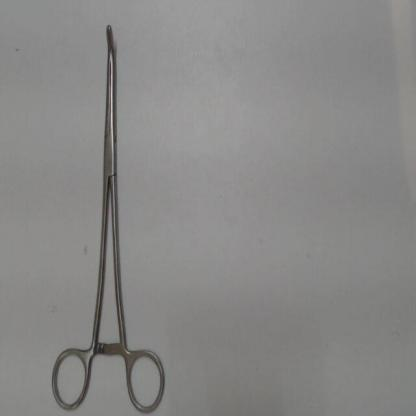Lahey Forceps: (48, 19, 168, 413)
